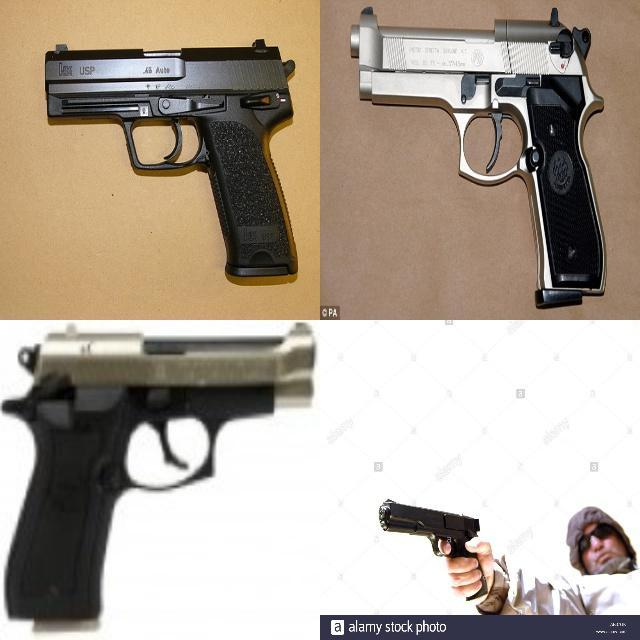gun-knife-thesis - v11 Yolov5 augmented: (3, 321, 315, 617), (345, 3, 606, 308), (43, 37, 298, 275), (374, 497, 493, 598)
